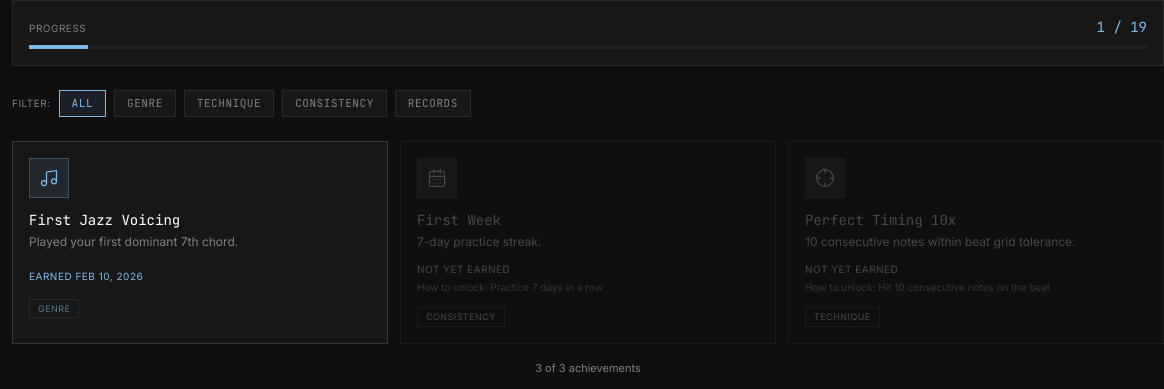
AchievementGallery › filters by category when filter button clicked
// Click "Records" filter — should show 0 items since none match PersonalRecord
Click the button "Records" at (433, 103), box [395,90,471,116]
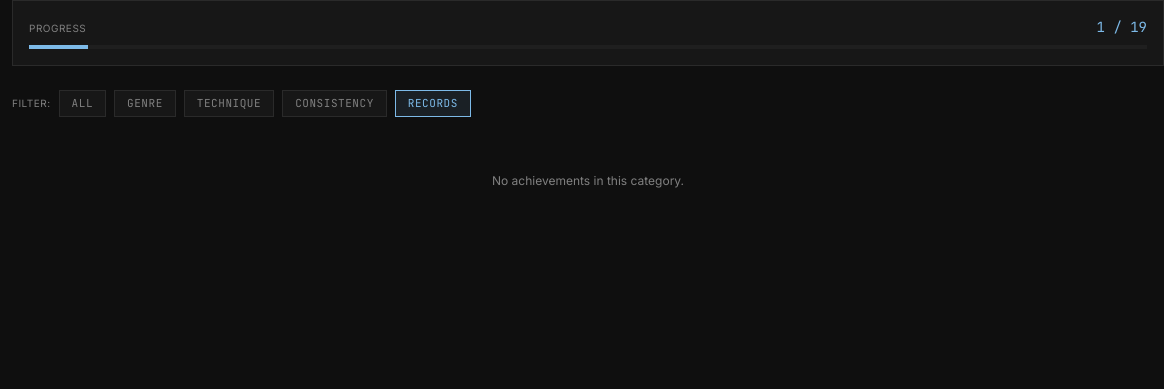
Expected: the text "No achievements in this category." is shown, [492,172,684,188]
